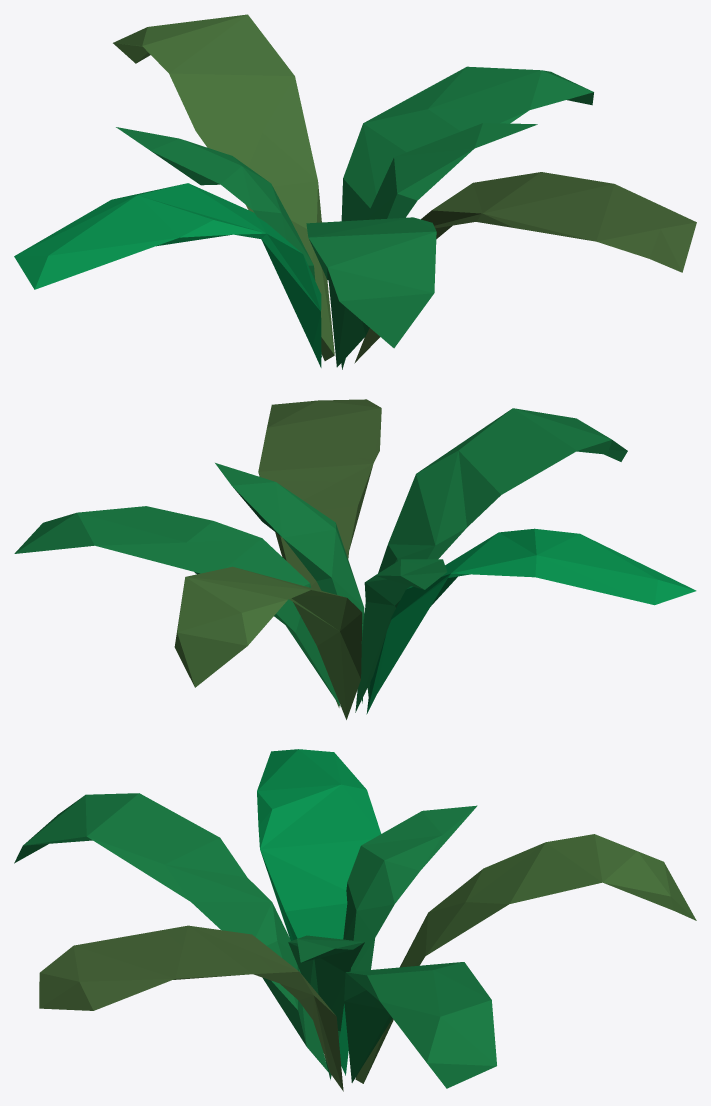
The model's file is Bush.fbx.
3 views of the same model, one above another, from view 1: azimuth 30°, elevation 25°; view 2: azimuth 150°, elevation 25°; view 3: azimuth 270°, elevation 25° (orthographic). The views are drawn at different scales.
Parts seen in each view (by area): view 1: Bush; view 2: Bush; view 3: Bush.
Boxes of the visible parts, left/top/right/bottom form: Bush: left=14, top=14, right=696, bottom=369; Bush: left=14, top=399, right=696, bottom=719; Bush: left=14, top=749, right=696, bottom=1091.
Size of the model in its own units: 1.91 by 0.6931 by 1.86.
